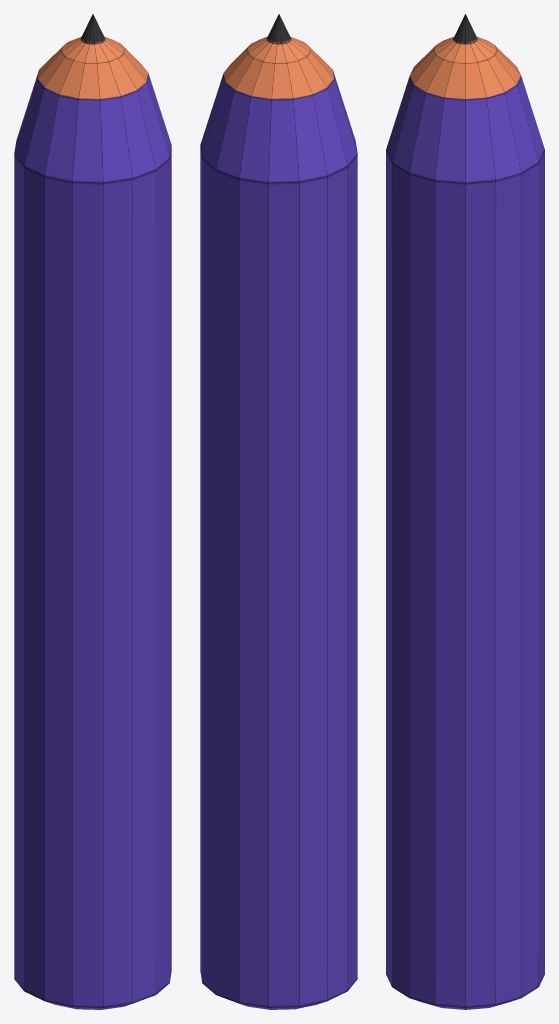
File: pencil purple.fbx
3 views of the same model, side by side, from view 1: azimuth 30°, elevation 25°; view 2: azimuth 150°, elevation 25°; view 3: azimuth 270°, elevation 25° (orthographic).
Parts seen in each view (by area): view 1: Pencil; view 2: Pencil; view 3: Pencil.
Part boxes in pixels (x1=…): Pencil: x1=14, y1=14, x2=171, y2=1009; Pencil: x1=200, y1=14, x2=357, y2=1009; Pencil: x1=386, y1=14, x2=544, y2=1009.
Bounding box in the file's own units: 17.45 × 118 × 17.45.
